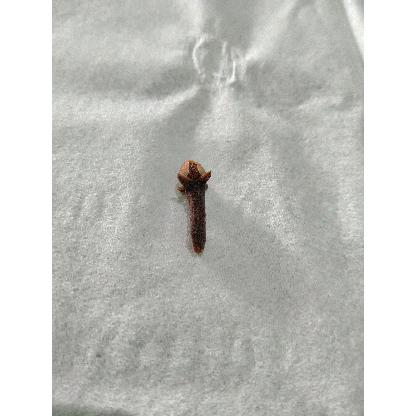baik: (177, 161, 211, 256)
